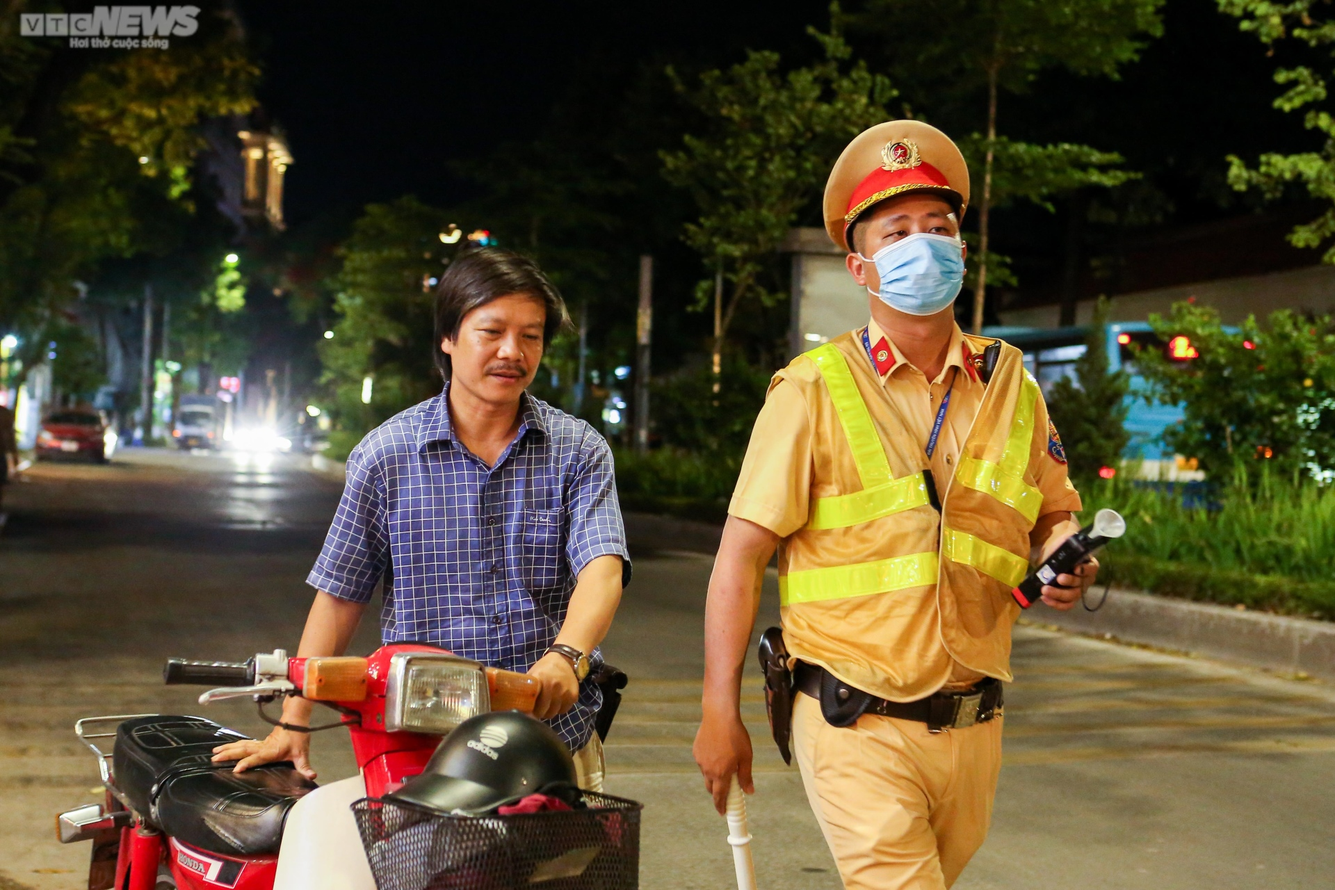oto: (172, 393, 234, 455)
xe_may: (48, 649, 638, 890)
